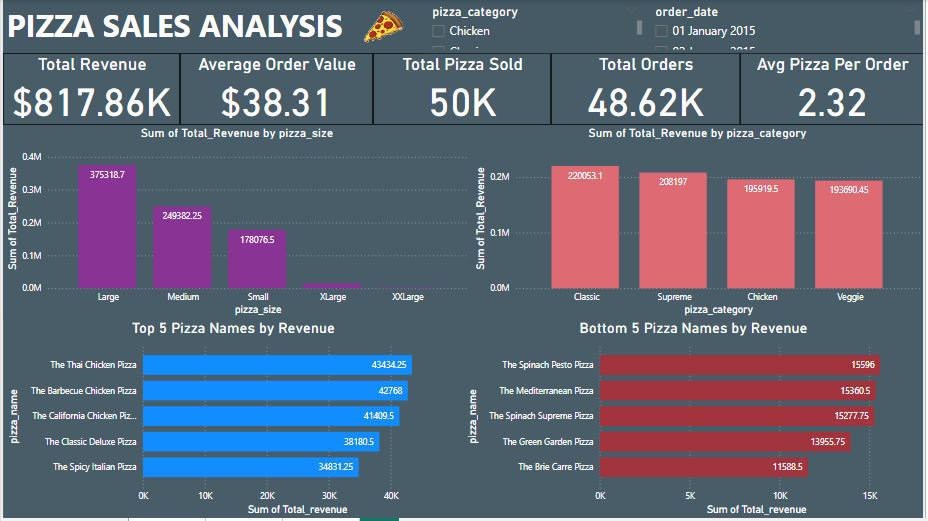

Layout of this report page (visuals, bound fields, positions):
{"tool":"powerbi","page":{"name":" Page 2","canvas":[1280,720],"ordinal":1},"visuals":[{"type":"textbox","box":[0,0,610.2,73.7],"z":0},{"type":"card","title":"Total Revenue","fields":{"Values":["Sum(unified_mentor pizza_sales.total_price)"]},"box":[0,73.7,246,100.1],"z":1000},{"type":"card","title":"Average Order Value","fields":{"Values":["unified_mentor pizza_sales.Average order value"]},"box":[246,73.7,268.3,100.1],"z":2000},{"type":"card","title":"Total Pizza Sold","fields":{"Values":["Sum(unified_mentor pizza_sales.quantity)"]},"box":[514.3,73.7,247.4,100.1],"z":3000},{"type":"card","title":"Total Orders","fields":{"Values":["CountNonNull(unified_mentor pizza_sales.order_id)"]},"box":[761.7,73.7,262.7,100.1],"z":4000},{"type":"card","title":"Avg Pizza Per Order","fields":{"Values":["unified_mentor pizza_sales.Avg_pizza_per_order"]},"box":[1024.4,73.7,255.8,100.1],"z":5000},{"type":"barChart","title":"Top 5 Pizza Names by Revenue","fields":{"Category":["sales_pizza_name.pizza_name"],"Y":["Sum(sales_pizza_name.Total_revenue)"]},"box":[1.4,443.4,638,276.6],"z":6000},{"type":"barChart","title":"Bottom 5 Pizza Names by Revenue","fields":{"Category":["bottom_pizza_sales.pizza_name"],"Y":["Sum(bottom_pizza_sales.Total_revenue)"]},"box":[639.4,443.4,640.8,276.6],"z":7000},{"type":"slicer","fields":{"Values":["pizza_sales.pizza_category"]},"box":[583.8,0,310,73.7],"z":8000},{"type":"slicer","fields":{"Values":["pizza_sales.order_date"]},"box":[893.6,0,386.4,73.7],"z":9000},{"type":"columnChart","fields":{"Category":["pizza_size_sales.pizza_size"],"Y":["Sum(pizza_size_sales.Total_Revenue)"]},"box":[0,173.7,650.5,269.7],"z":10000},{"type":"columnChart","fields":{"Category":["revenue_pizza_category.pizza_category"],"Y":["Sum(revenue_pizza_category.Total_Revenue)"]},"box":[650.5,173.7,629.7,269.7],"z":11000},{"type":"image","box":[474,0,109.8,73.7],"z":12000}]}

Visuals, with their boxes in screenshot pixels (x1, y1, x2, y2), scaled from the page's 1280x720 canvas onto the 928x521 screenshot:
textbox: 0, 0, 442, 53
"Total Revenue" card: 0, 53, 178, 126
"Average Order Value" card: 178, 53, 373, 126
"Total Pizza Sold" card: 373, 53, 552, 126
"Total Orders" card: 552, 53, 743, 126
"Avg Pizza Per Order" card: 743, 53, 927, 126
"Top 5 Pizza Names by Revenue" barChart: 1, 321, 464, 520
"Bottom 5 Pizza Names by Revenue" barChart: 464, 321, 927, 520
slicer - pizza_sales.pizza_category: 423, 0, 648, 53
slicer - pizza_sales.order_date: 648, 0, 927, 53
columnChart - pizza_size_sales.pizza_size x Sum(pizza_size_sales.Total_Revenue): 0, 126, 472, 321
columnChart - revenue_pizza_category.pizza_category x Sum(revenue_pizza_category.Total_Revenue): 472, 126, 927, 321
image: 344, 0, 423, 53
